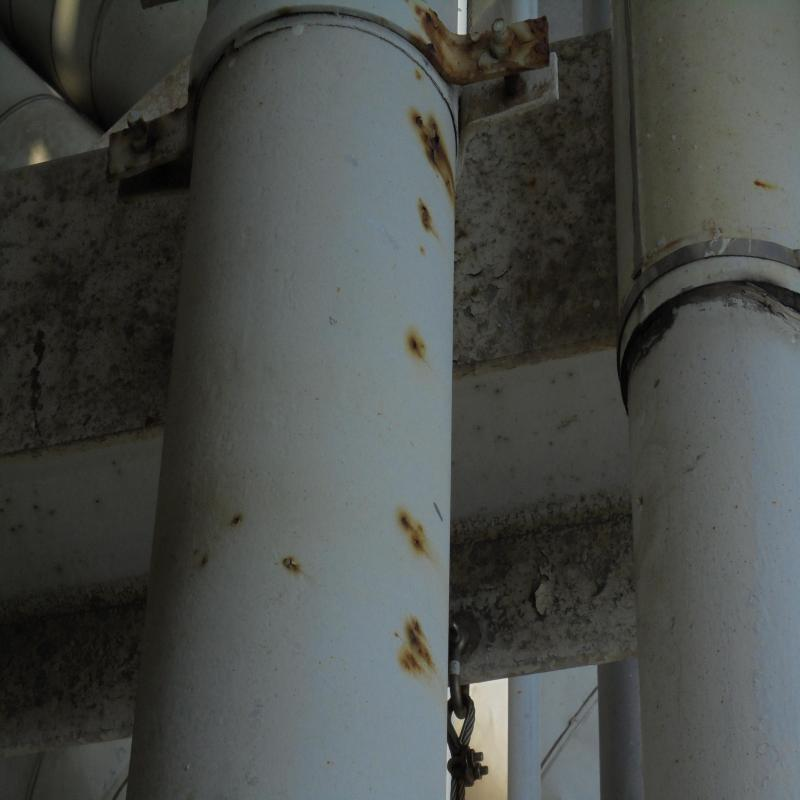corrosion: (412, 8, 552, 80), (408, 106, 469, 200), (396, 506, 437, 560), (403, 620, 433, 675), (405, 329, 432, 361), (278, 558, 306, 579)
